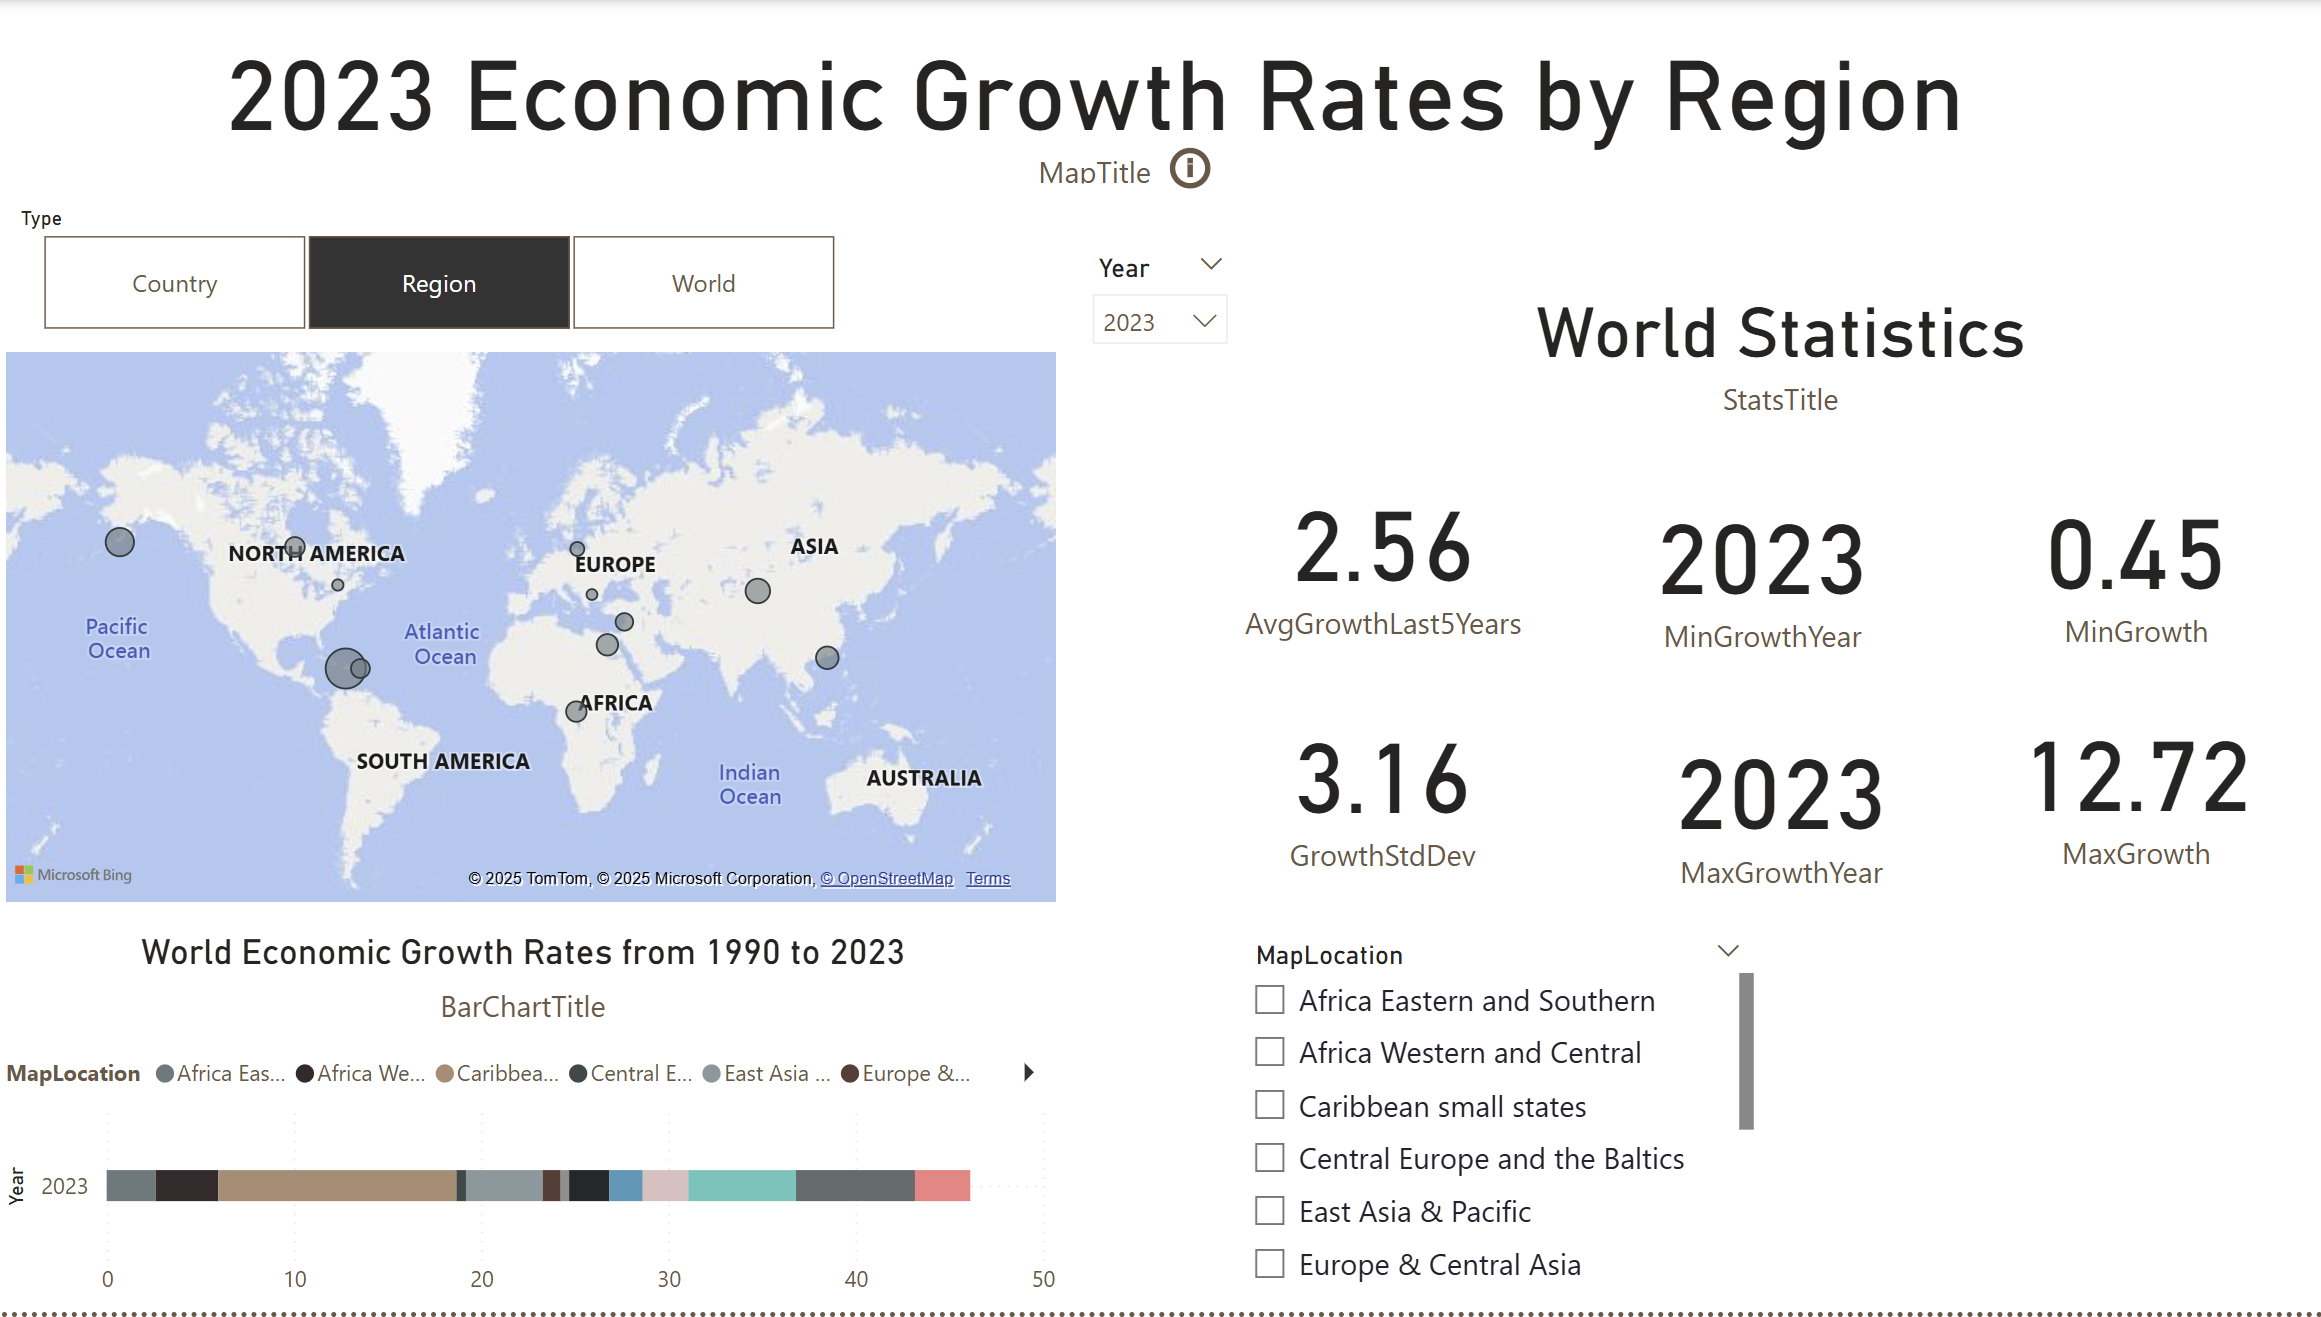

This screenshot's page, from the dashboard's own definition file:
{"tool":"powerbi","page":{"name":"Page 1","canvas":[1280,720],"ordinal":0},"visuals":[{"type":"slicer","fields":{"Values":["GrowthData.Year"]},"box":[592,133.6,94,73],"z":0},{"type":"card","fields":{"Values":["GrowthData.AvgGrowthLast5Years"]},"box":[639,249.3,242.5,107],"z":1000},{"type":"card","fields":{"Values":["GrowthData.MinGrowth"]},"box":[1069.5,255.5,210.3,104.5],"z":2000},{"type":"card","fields":{"Values":["GrowthData.MinGrowthYear"]},"box":[856.7,255.5,225.2,110.1],"z":3000},{"type":"card","fields":{"Values":["GrowthData.MapTitle"]},"box":[98.4,4.9,1007,100.2],"z":4000},{"type":"slicer","fields":{"Values":["GrowthData.Type"]},"box":[0,108.2,483.7,79.2],"z":5000},{"type":"actionButton","box":[639,77.3,39,30.9],"z":6000},{"type":"card","fields":{"Values":["GrowthData.StatsTitle"]},"box":[677.9,121.9,601.9,133.6],"z":7000},{"type":"card","fields":{"Values":["GrowthData.MaxGrowth"]},"box":[1087.4,378.6,174.4,101.4],"z":8000},{"type":"card","fields":{"Values":["GrowthData.MaxGrowthYear"]},"box":[874,381,210.3,116.3],"z":9000},{"type":"card","fields":{"Values":["GrowthData.GrowthStdDev"]},"box":[658.1,378.6,203.5,103.9],"z":10000},{"type":"map","fields":{"Category":["GrowthData.MapLocation"],"Size":["Avg(GrowthData.Growth Rate)"]},"box":[0,188.7,586.4,311.8],"z":11000},{"type":"slicer","fields":{"Values":["GrowthData.MapLocation"]},"box":[677.9,510.9,291.3,209.1],"z":12000},{"type":"barChart","fields":{"Series":["GrowthData.MapLocation"],"Category":["GrowthData.Year"],"Y":["Min(GrowthData.Growth Rate)"]},"box":[0,569.1,585.8,150.9],"z":13000},{"type":"card","fields":{"Values":["GrowthData.BarChartTitle"]},"box":[0,497.3,577.1,71.8],"z":14000}]}

Visuals, with their boxes in screenshot pixels (x1, y1, x2, y2), scaled from the page's 1280x720 canvas onto the 2321x1317 screenshot:
slicer - GrowthData.Year: rect(1073, 244, 1244, 378)
card - GrowthData.AvgGrowthLast5Years: rect(1159, 456, 1598, 652)
card - GrowthData.MinGrowth: rect(1939, 467, 2320, 658)
card - GrowthData.MinGrowthYear: rect(1553, 467, 1962, 669)
card - GrowthData.MapTitle: rect(178, 9, 2004, 192)
slicer - GrowthData.Type: rect(0, 198, 877, 343)
actionButton: rect(1159, 141, 1229, 198)
card - GrowthData.StatsTitle: rect(1229, 223, 2320, 467)
card - GrowthData.MaxGrowth: rect(1972, 693, 2288, 878)
card - GrowthData.MaxGrowthYear: rect(1585, 697, 1966, 910)
card - GrowthData.GrowthStdDev: rect(1193, 693, 1562, 883)
map - GrowthData.MapLocation x Avg(GrowthData.Growth Rate): rect(0, 345, 1063, 915)
slicer - GrowthData.MapLocation: rect(1229, 935, 1757, 1316)
barChart - GrowthData.MapLocation x GrowthData.Year: rect(0, 1041, 1062, 1316)
card - GrowthData.BarChartTitle: rect(0, 910, 1046, 1041)
